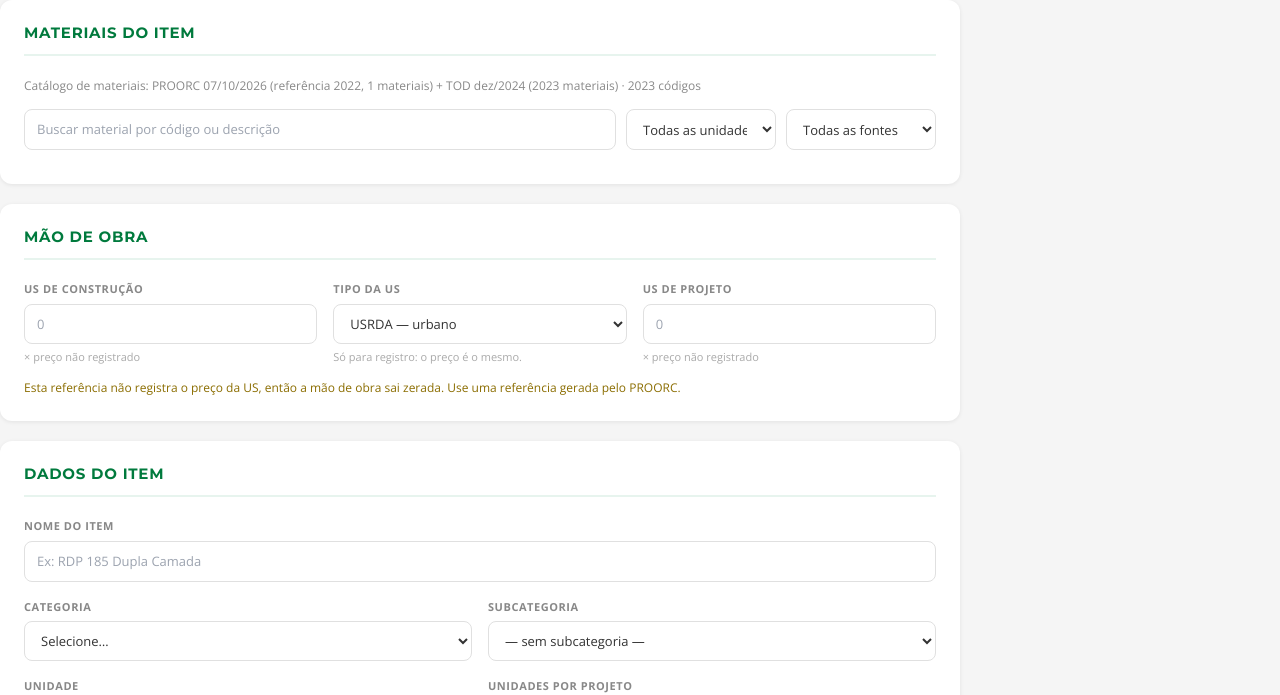
Test: Criar Item com o catálogo da TOD › filtros de unidade e de fonte
The width and height of the screenshot is (1280, 695).
Step 1. Select "PROORC" in the dropdown named "Filtrar por fonte" → (861, 130), box [786,109,936,150]
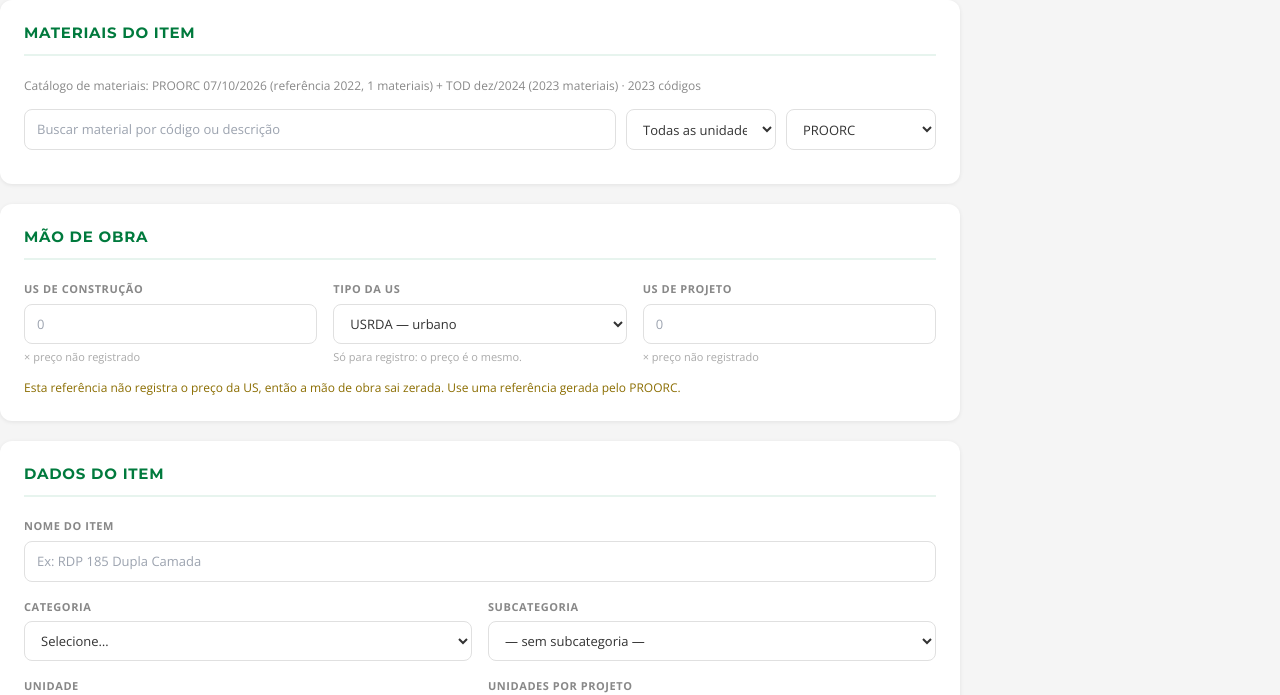
Step 2. Type "religador" into the field with placeholder "Buscar material por código ou descrição" → (320, 130), box [24,109,616,150]
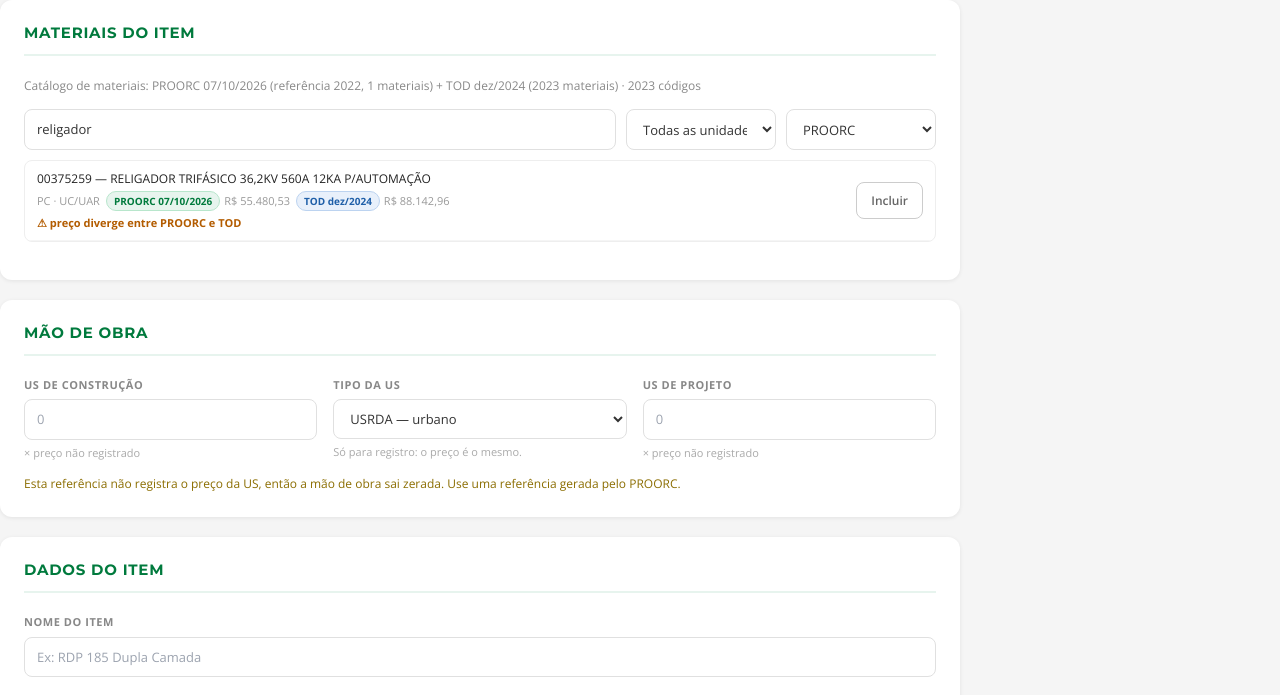
Step 3. Select "Todas as fontes" in the dropdown named "Filtrar por fonte" → (861, 130), box [786,109,936,150]
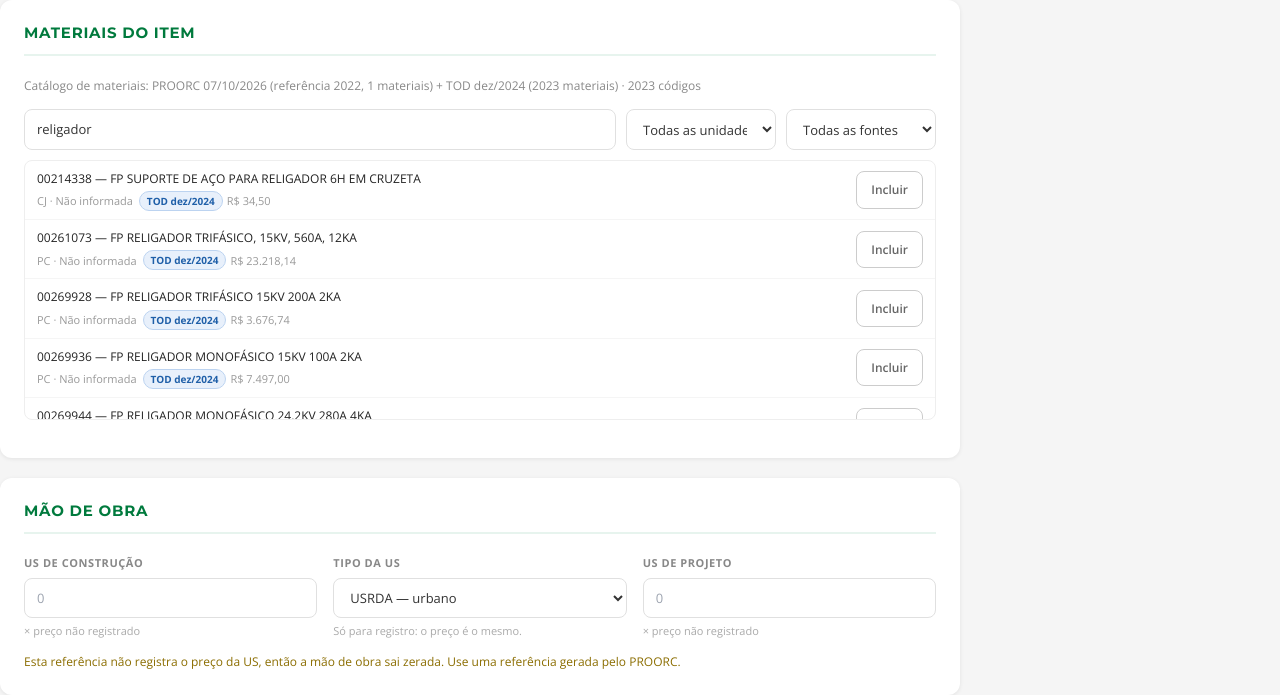
Step 4. Select "M" in the dropdown named "Filtrar por unidade" → (701, 130), box [626,109,776,150]
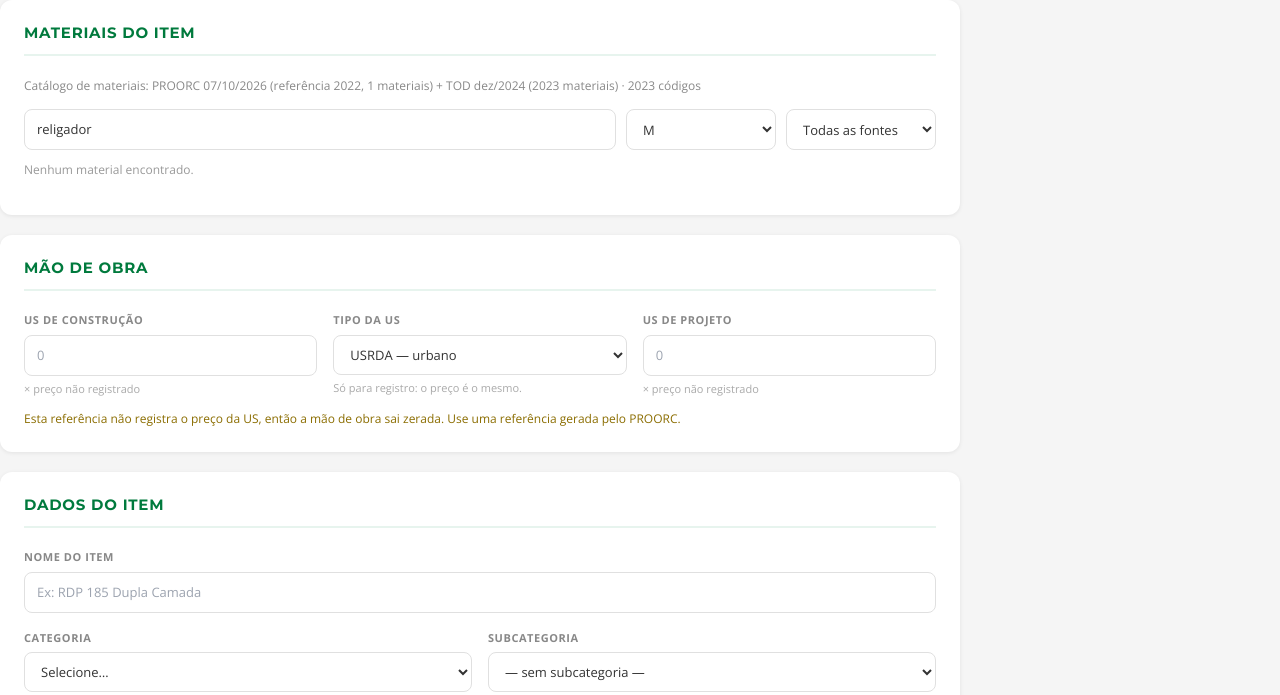
Result: the text "Nenhum material encontrado." is shown at [24,161,194,178]
